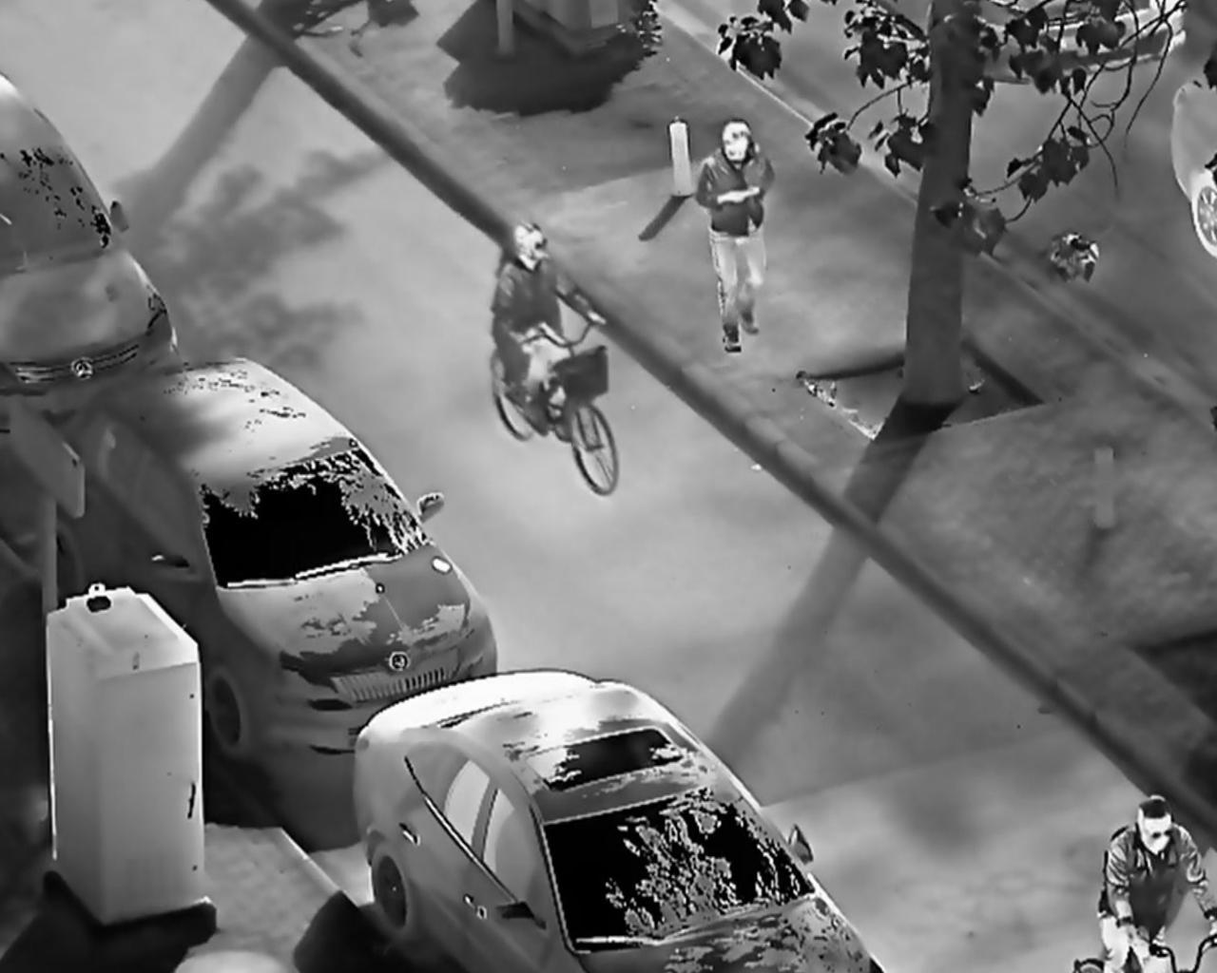person: (491, 217, 609, 433), (695, 116, 782, 359), (1099, 792, 1214, 973)
